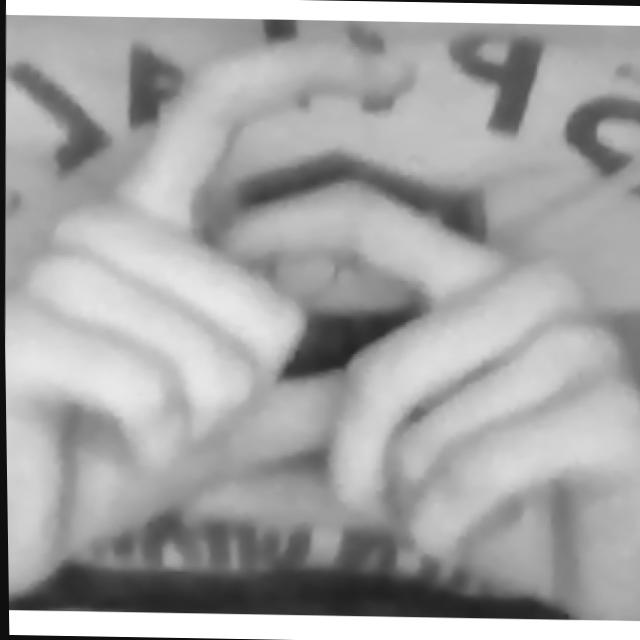G-: (0, 11, 640, 619)
